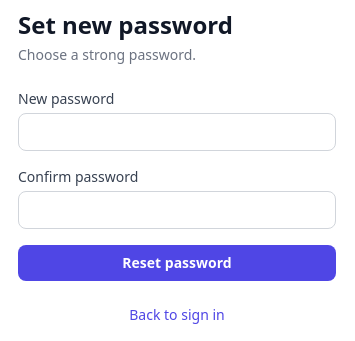
Test: ResetPasswordPage › submits and shows success on valid input
Type "ValidPass1" into the password field labelled "New password". click: (177, 132)
box: [18,113,336,151]
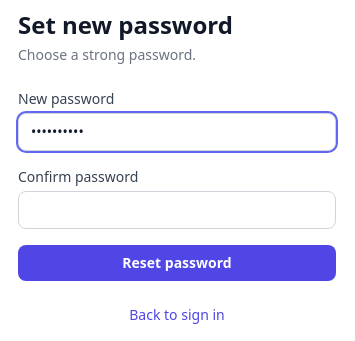
Type "ValidPass1" into the password field labelled "Confirm password". click: (177, 210)
box: [18,191,336,229]
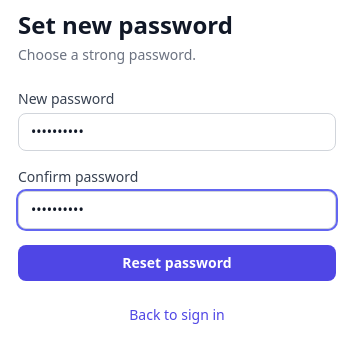
Click the button "Reset password". click: (177, 263)
box: [18,245,336,281]
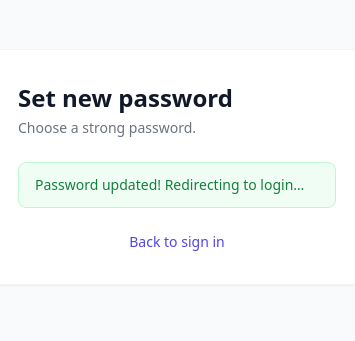
Check: the text "Password updated! Redirecting to login…" is shown, box [18,162,336,208]
